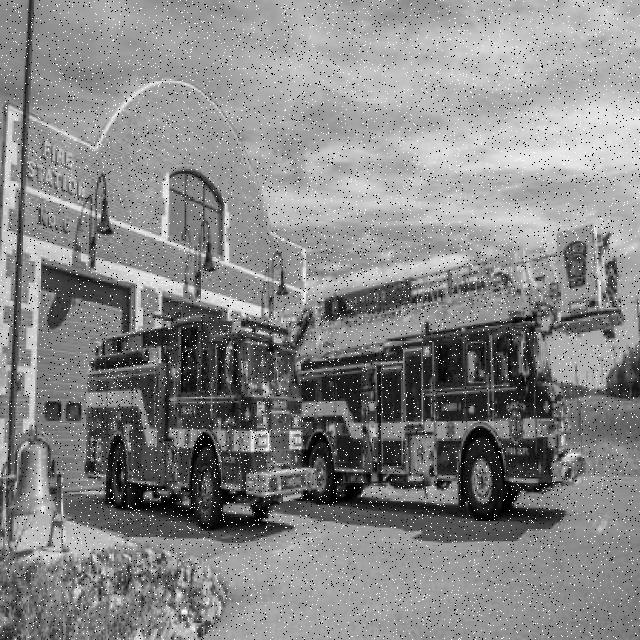Fire Truck: (272, 225, 625, 522), (84, 315, 318, 531)
